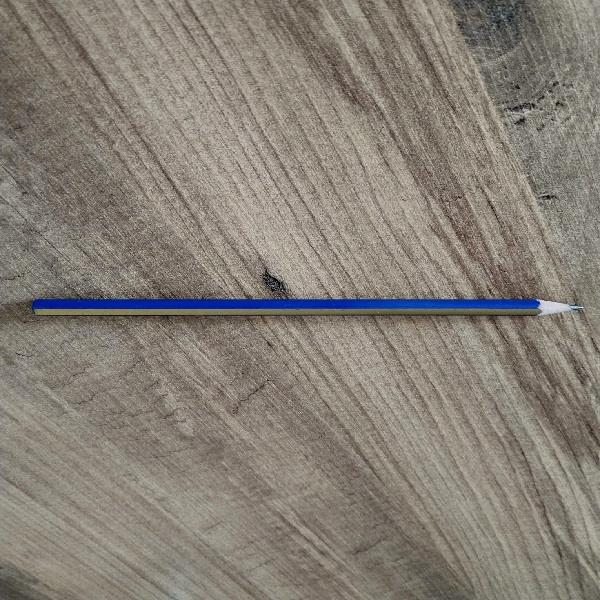pencil: (28, 291, 585, 321)
